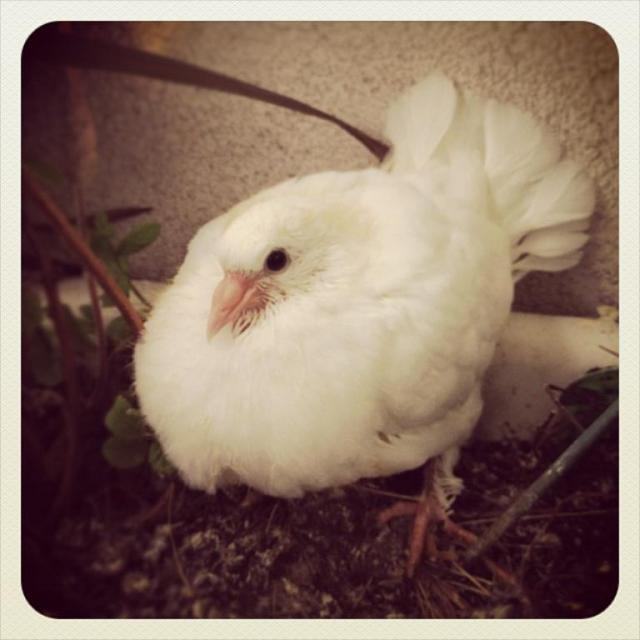Chicken: (121, 66, 597, 577)
